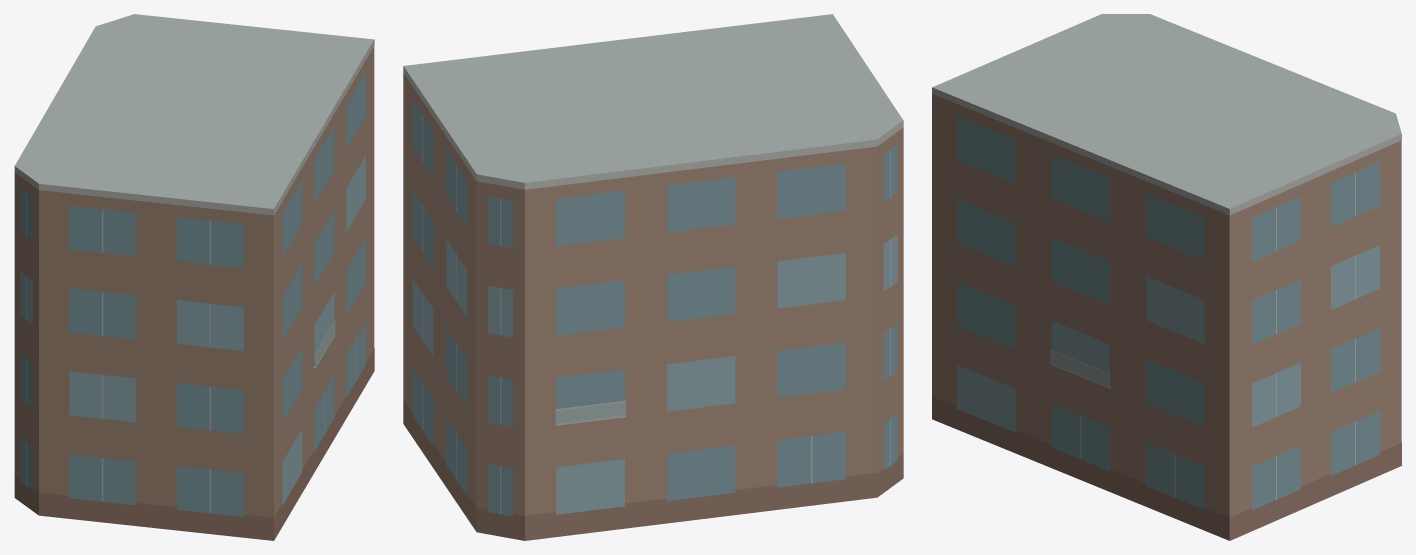
Rendered from survey-upis-32754642.glb.
3 renders of one model, left to right at view 1: azimuth 30°, elevation 25°; view 2: azimuth 150°, elevation 25°; view 3: azimuth 270°, elevation 25°, orthographic. The views are drawn at different scales.
Parts seen in each view (by area): view 1: survey-upis-32754642.tmp; view 2: survey-upis-32754642.tmp; view 3: survey-upis-32754642.tmp.
Boxes of the visible parts, bbox=[...] form: survey-upis-32754642.tmp: bbox=[14, 14, 374, 540]; survey-upis-32754642.tmp: bbox=[403, 14, 903, 540]; survey-upis-32754642.tmp: bbox=[932, 14, 1401, 540].
Bounding box in the file's own units: 16.08 × 12.75 × 16.36.
